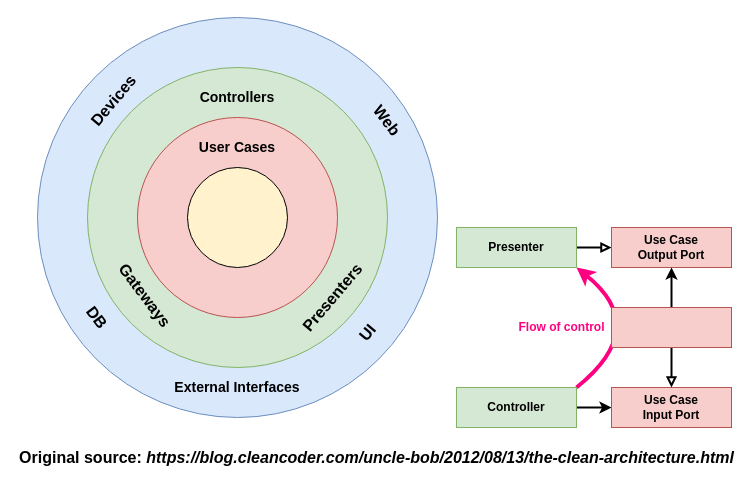
This 753x485 diagram has some shape labels left out. Each missing label, with the box of its shape:
Entities: (186, 166, 288, 268)
Use Case Interactor: (610, 306, 732, 348)
